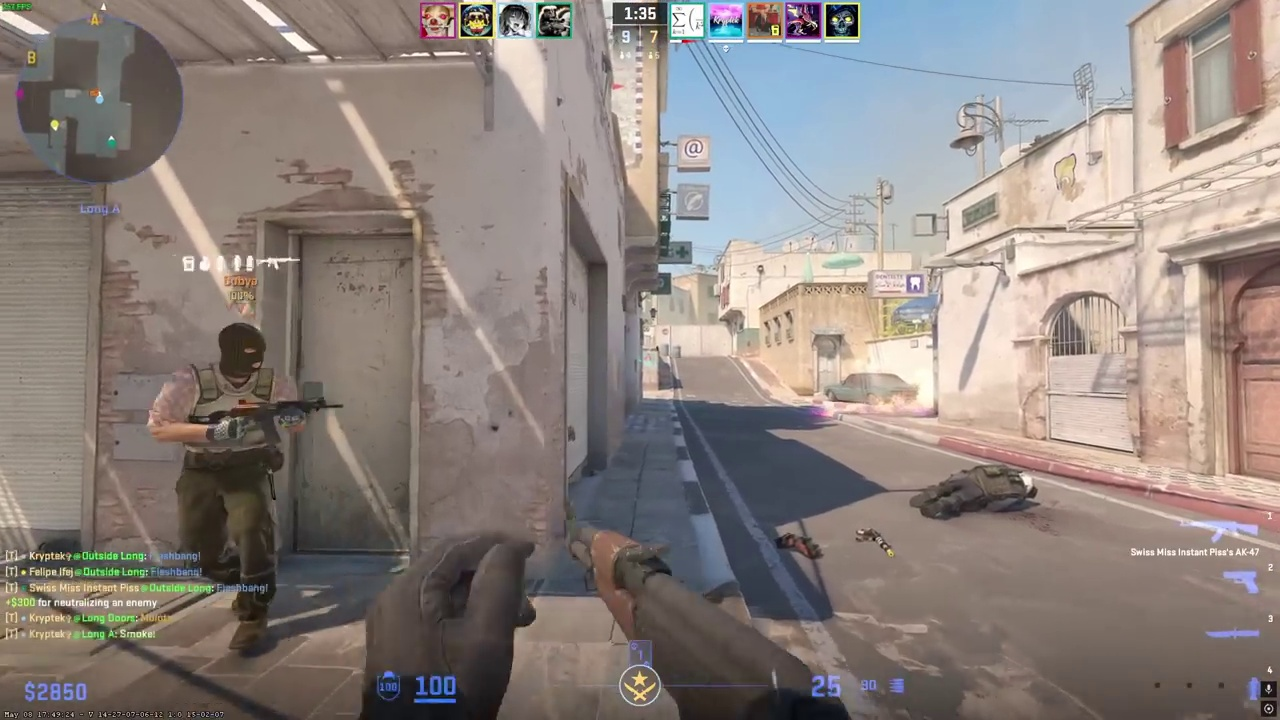Terrorist: (155, 322, 304, 650)
